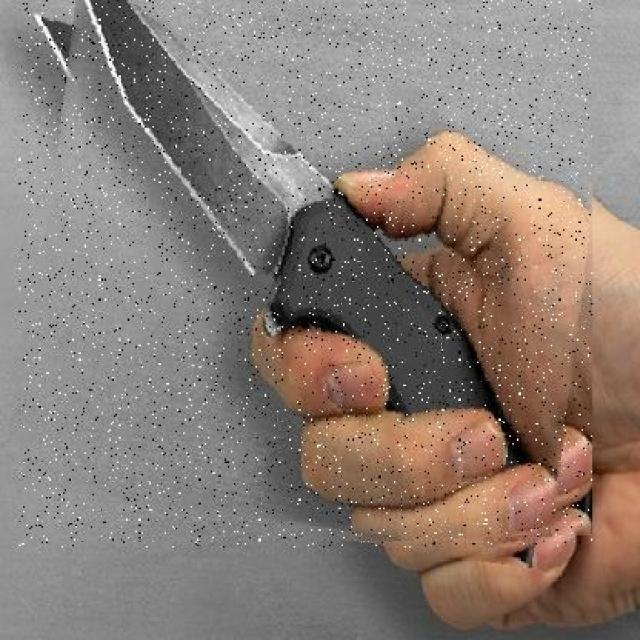knife: (19, 0, 592, 548)
